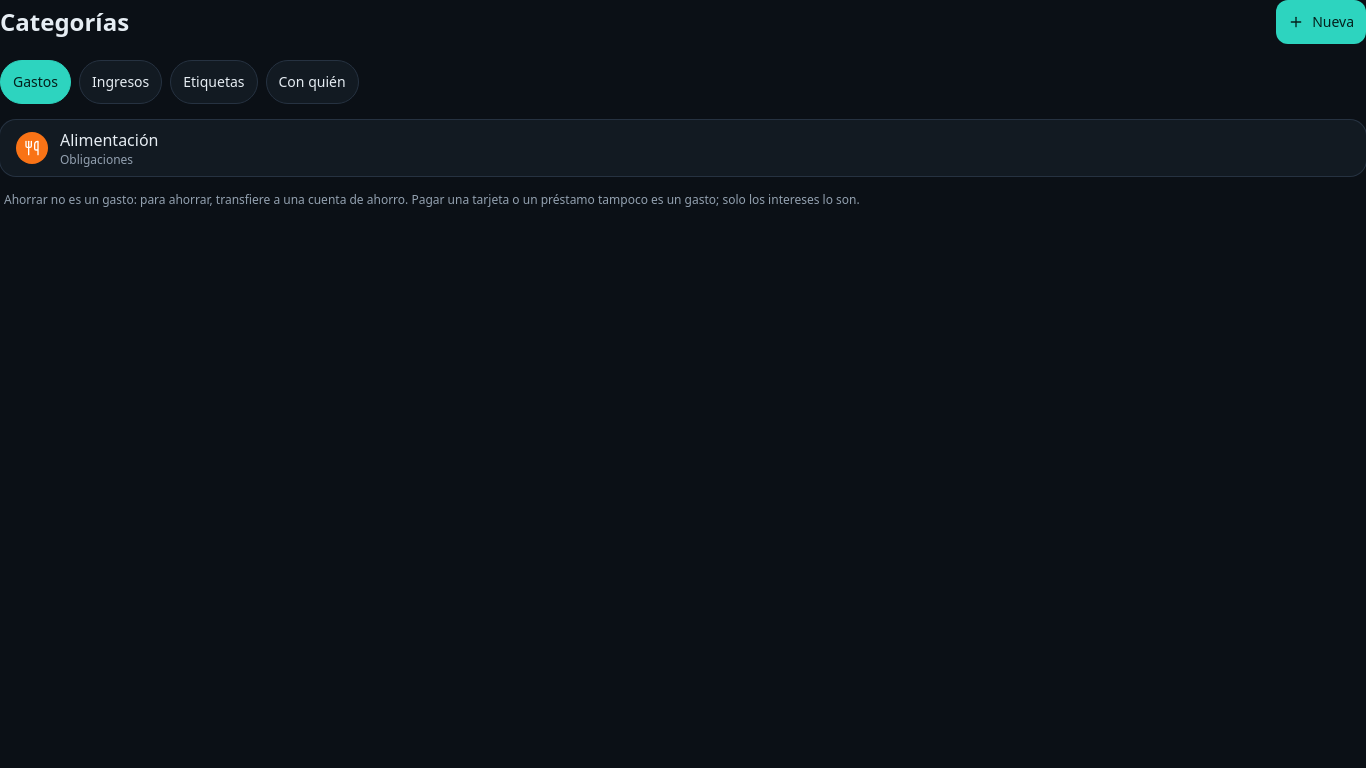
Test: CategoriesPage › renames a tag from the Etiquetas tab and shows the lower-cased name
The width and height of the screenshot is (1366, 768).
Click the radio button labelled "Etiquetas" at (214, 82), box [170, 60, 258, 104]
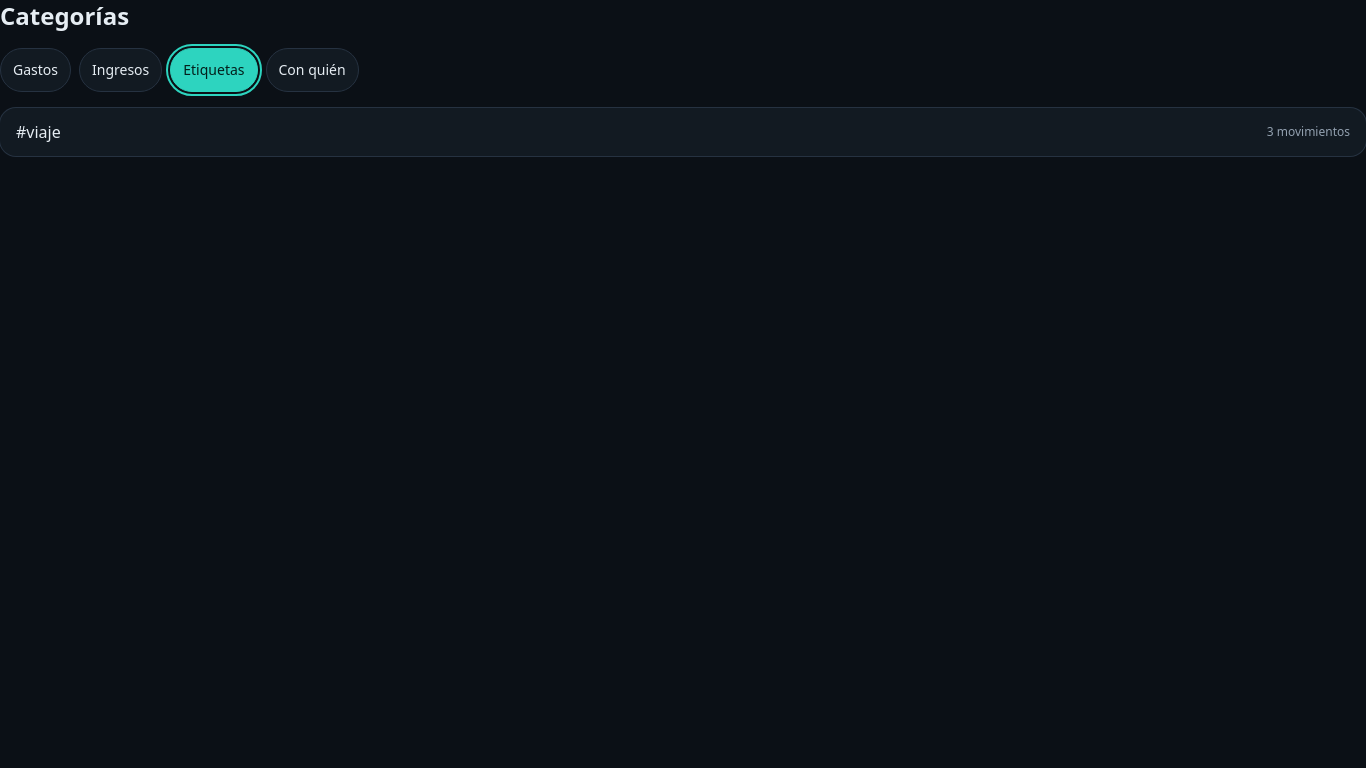
Click the button "#viaje 3 movimientos" at (44, 132), box [0, 108, 1365, 156]
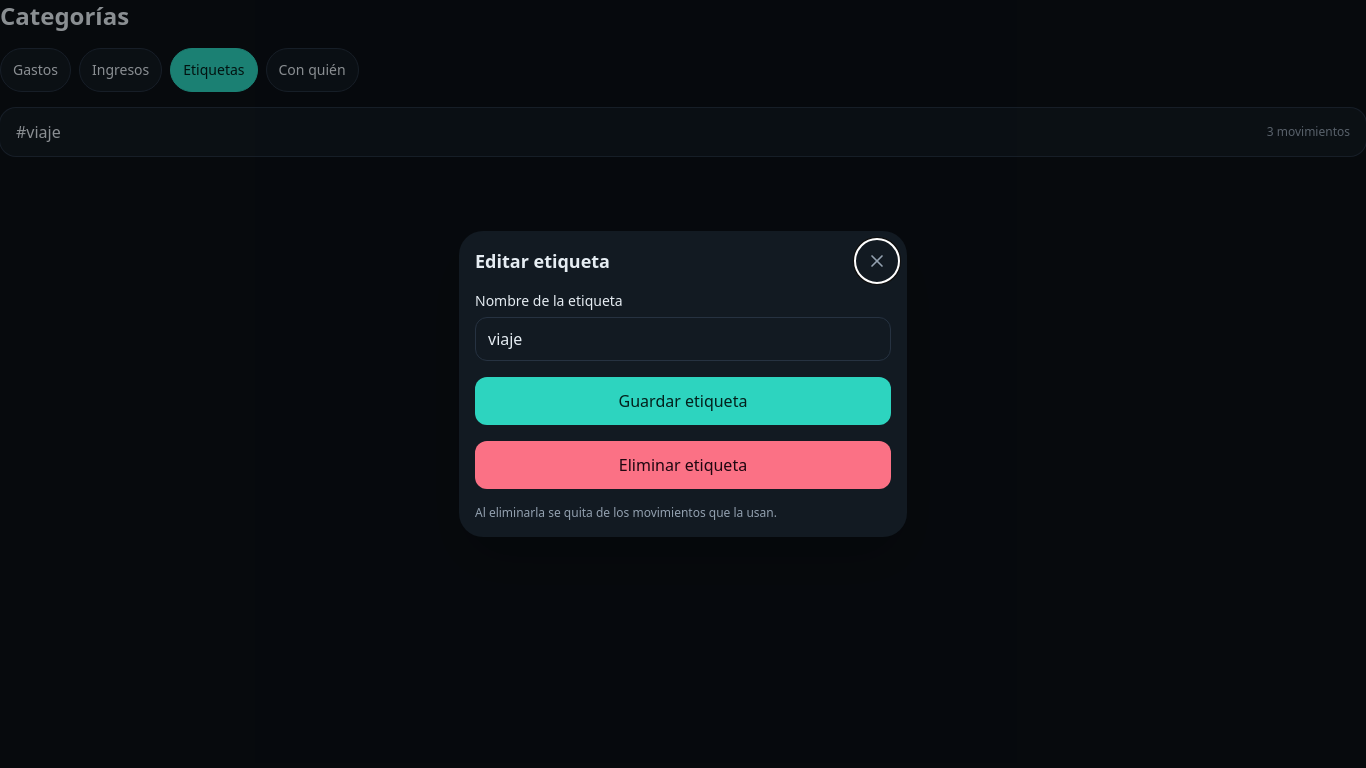
Replace the text in the field labelled "Nombre de la etiqueta" with "Vacaciones" at (683, 339), box [475, 317, 891, 361]
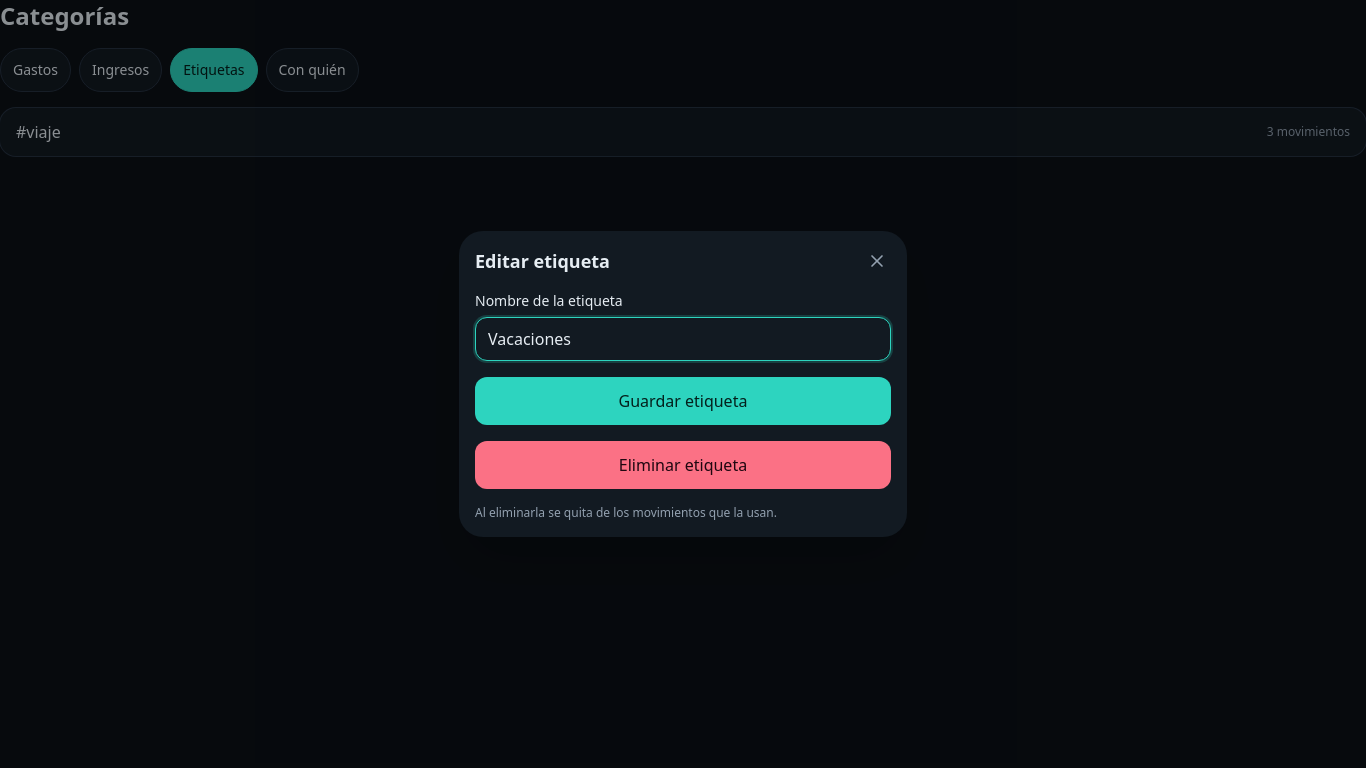
Click the button "Guardar etiqueta" at (683, 401), box [475, 377, 891, 425]
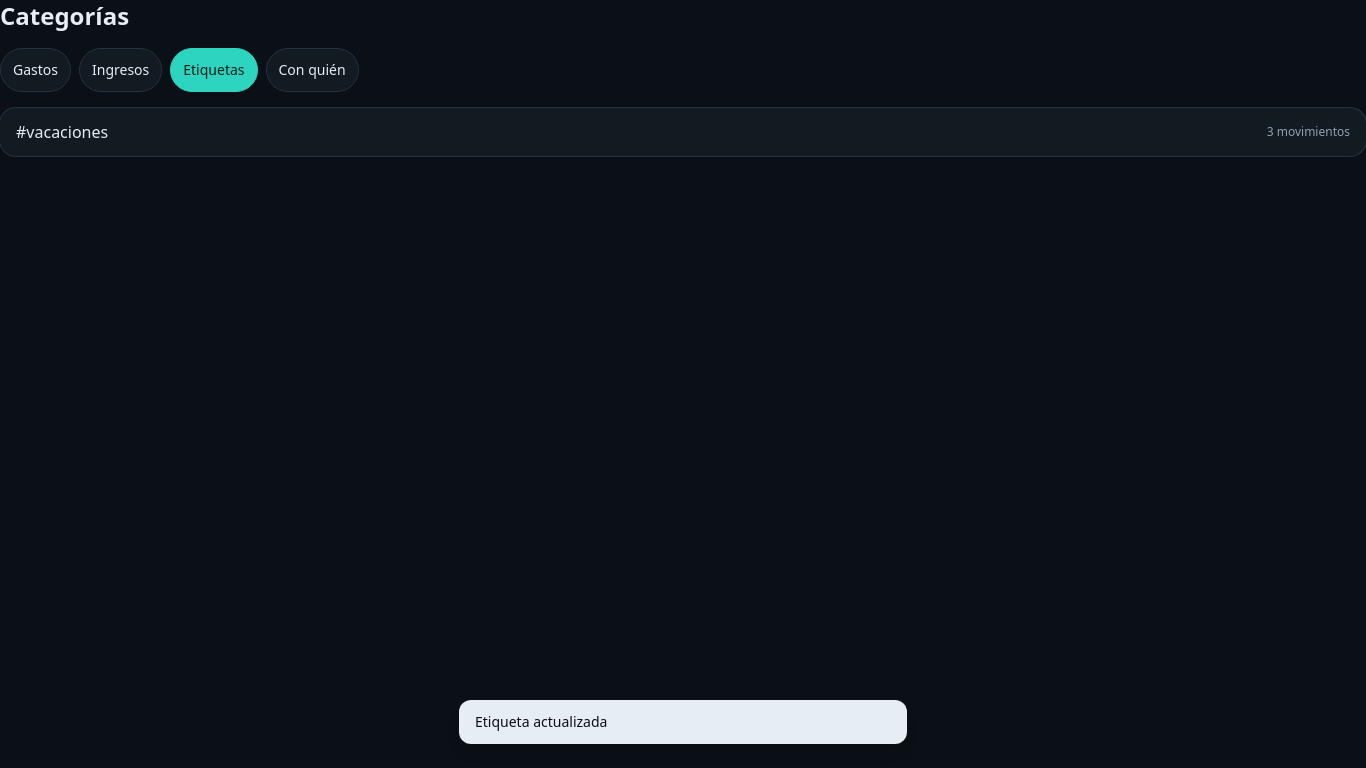
Expected: the button "#vacaciones 3 movimientos" is shown, [0, 108, 1365, 156]
Expected: the button "#viaje" is gone
